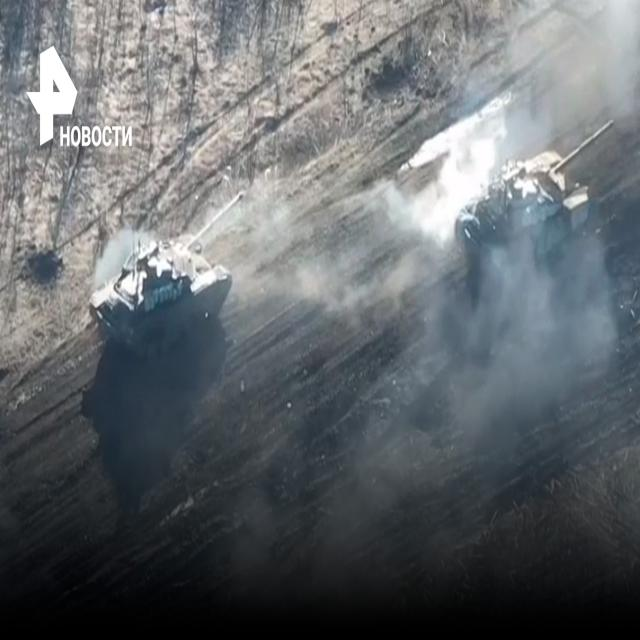tank: (454, 143, 598, 314), (91, 236, 234, 359)
